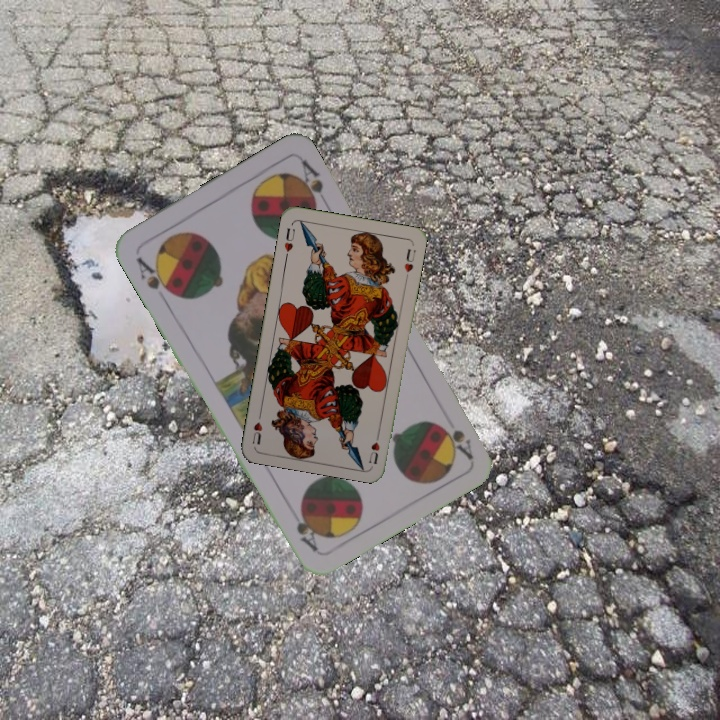HU: (365, 427, 383, 467), (280, 224, 298, 261)
SA: (131, 252, 177, 298), (439, 423, 475, 462)
